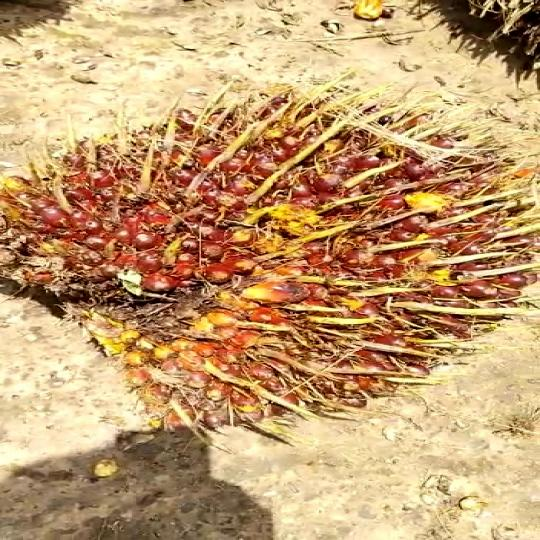masak: (0, 80, 540, 449)
